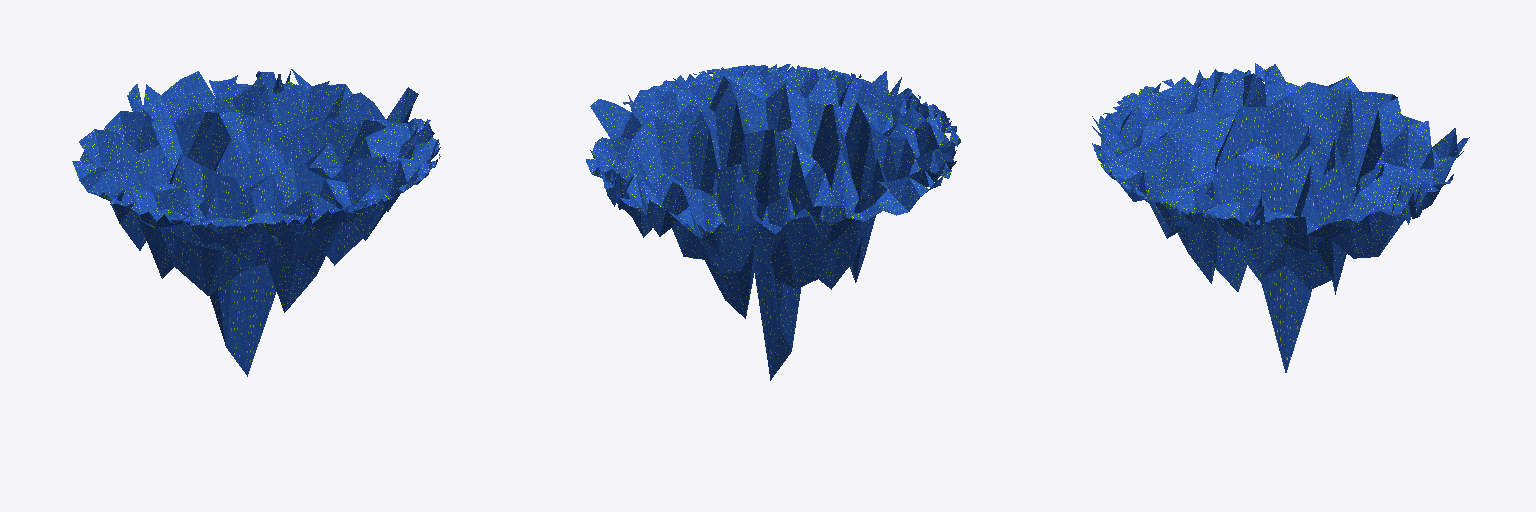
3 views of the same model, side by side, from view 1: azimuth 30°, elevation 25°; view 2: azimuth 150°, elevation 25°; view 3: azimuth 270°, elevation 25° (orthographic).
Parts seen in each view (by area): view 1: groundfinal.004; view 2: groundfinal.004; view 3: groundfinal.004.
Part boxes in pixels (left/top/right/bottom): groundfinal.004: left=72, top=69, right=440, bottom=376; groundfinal.004: left=586, top=64, right=960, bottom=380; groundfinal.004: left=1092, top=63, right=1469, bottom=372.
Bounding box in the file's own units: 453 × 317 × 452.
Materials: 1 (1 with a texture image).